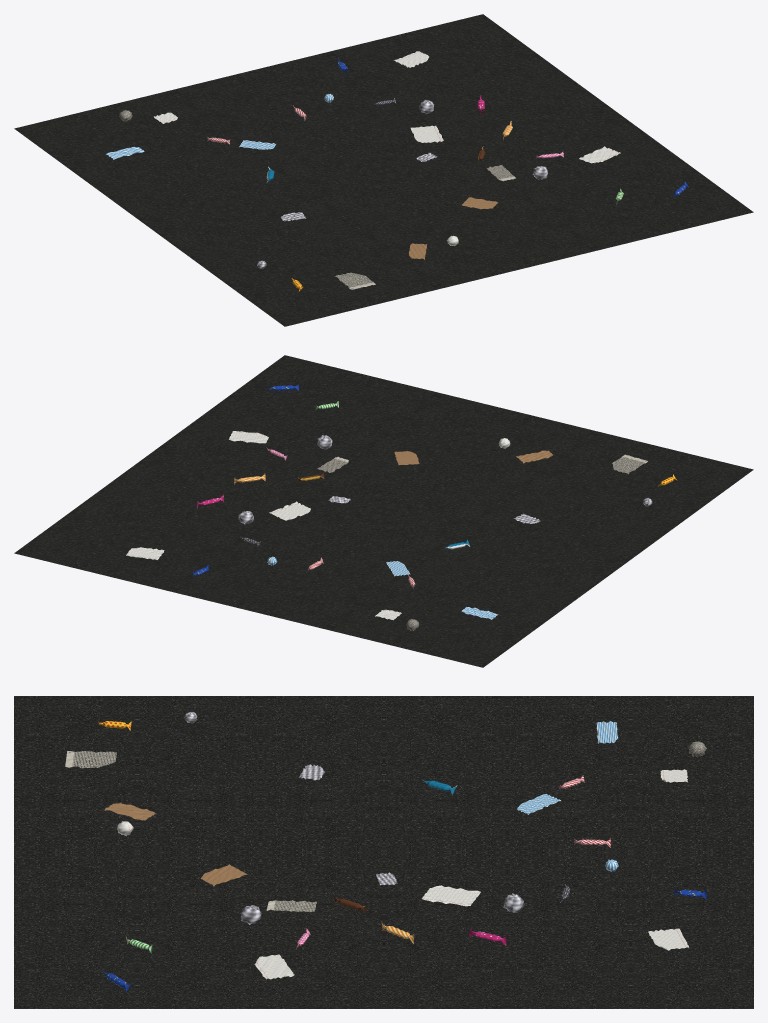
File: road_litter.obj
3 renders of one model, top to bottom at view 1: azimuth 30°, elevation 25°; view 2: azimuth 150°, elevation 25°; view 3: azimuth 270°, elevation 25°, orthographic. The views are drawn at different scales.
Parts seen in each view (by area): view 1: road; view 2: road; view 3: road, paper_scrap_00, paper_scrap_01, paper_scrap_07, paper_scrap_04, paper_scrap_08.
Boxes of the visible parts, x1,y1,x2,y2 form: road: (14, 14, 753, 326); road: (14, 355, 753, 667); road: (14, 696, 753, 1008); paper_scrap_00: (422, 885, 480, 906); paper_scrap_01: (65, 751, 116, 768); paper_scrap_07: (254, 954, 294, 979); paper_scrap_04: (648, 928, 688, 950); paper_scrap_08: (201, 864, 247, 886).
Bounding box in the file's own units: 2 × 0.0539 × 2.
2 materials, 2 textured.
